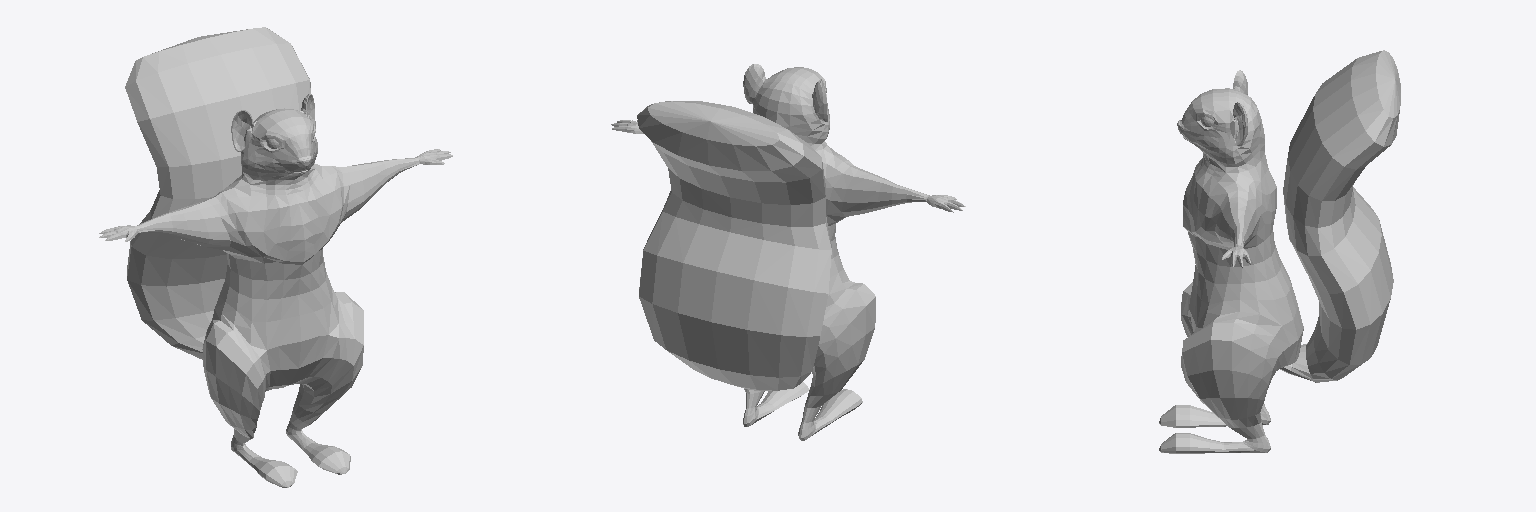
The model's file is squirrel.obj.
The picture shows the model from 3 angles: view 1: azimuth 30°, elevation 25°; view 2: azimuth 150°, elevation 25°; view 3: azimuth 270°, elevation 25°; orthographic projection.
Bounding box in the file's own units: 0.5266 × 0.5207 × 0.3133.